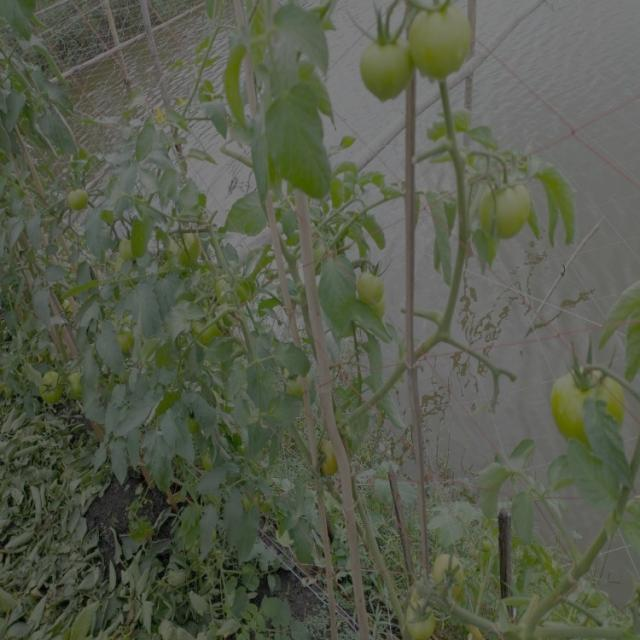tomato: (550, 362, 632, 448), (415, 3, 483, 89), (359, 38, 411, 103), (484, 175, 533, 242), (430, 548, 469, 595), (353, 266, 390, 311), (401, 601, 443, 637), (285, 361, 316, 400), (213, 274, 249, 306), (190, 316, 224, 344), (38, 371, 63, 407), (176, 236, 204, 267), (67, 368, 89, 399), (115, 233, 136, 265), (114, 326, 138, 353), (319, 442, 335, 482), (67, 187, 89, 214)
